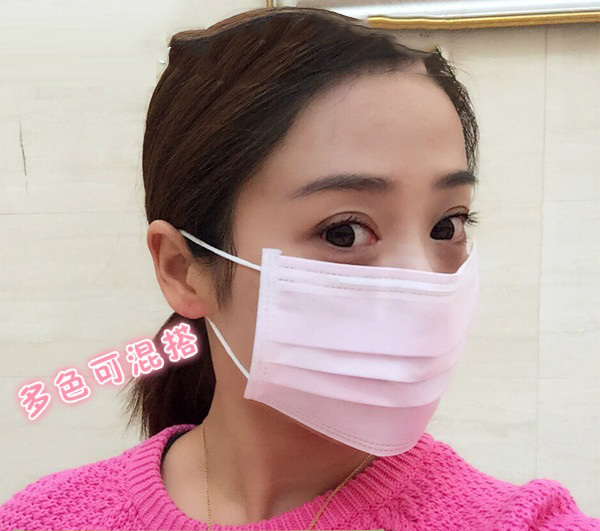face_mask: (229, 84, 484, 460)
